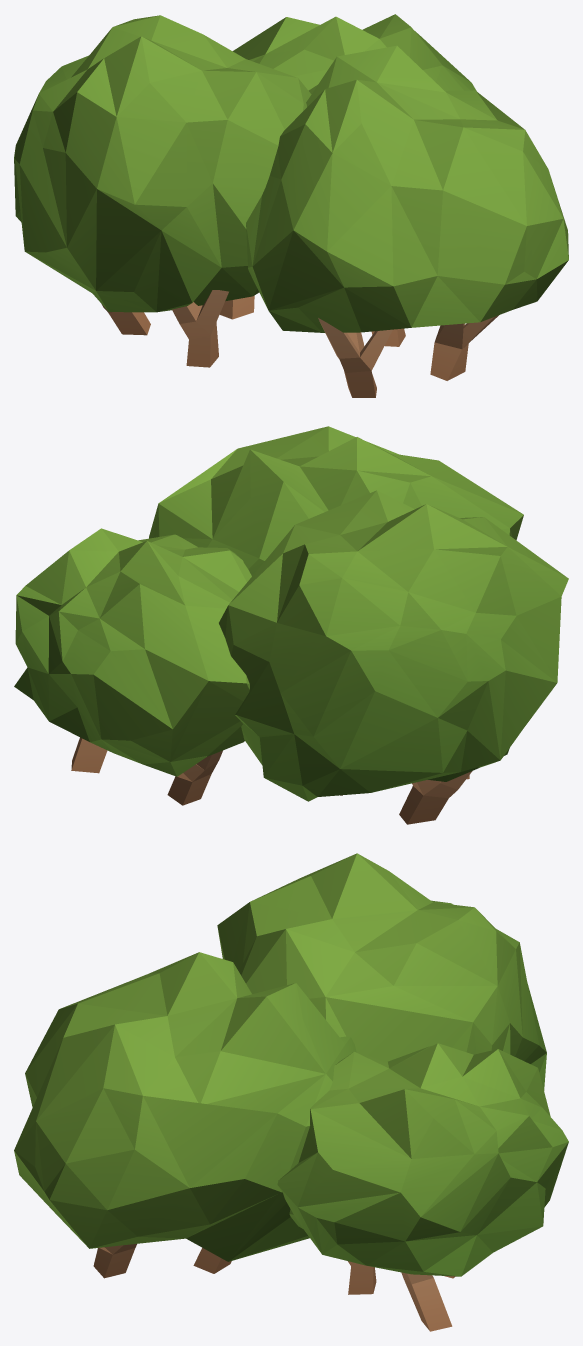
Rendered from tree002.gltf.
3 views of the same model, one above another, from view 1: azimuth 30°, elevation 25°; view 2: azimuth 150°, elevation 25°; view 3: azimuth 270°, elevation 25° (orthographic). The views are drawn at different scales.
Parts seen in each view (by area): view 1: Bush_group_big; view 2: Bush_group_big; view 3: Bush_group_big.
Boxes of the visible parts, x1,y1,x2,y2 form: Bush_group_big: (14, 14, 568, 397); Bush_group_big: (14, 426, 568, 824); Bush_group_big: (14, 853, 568, 1331).
Bounding box in the file's own units: 6.84 × 4.25 × 6.72.
Materials: 1 (1 with a texture image).
